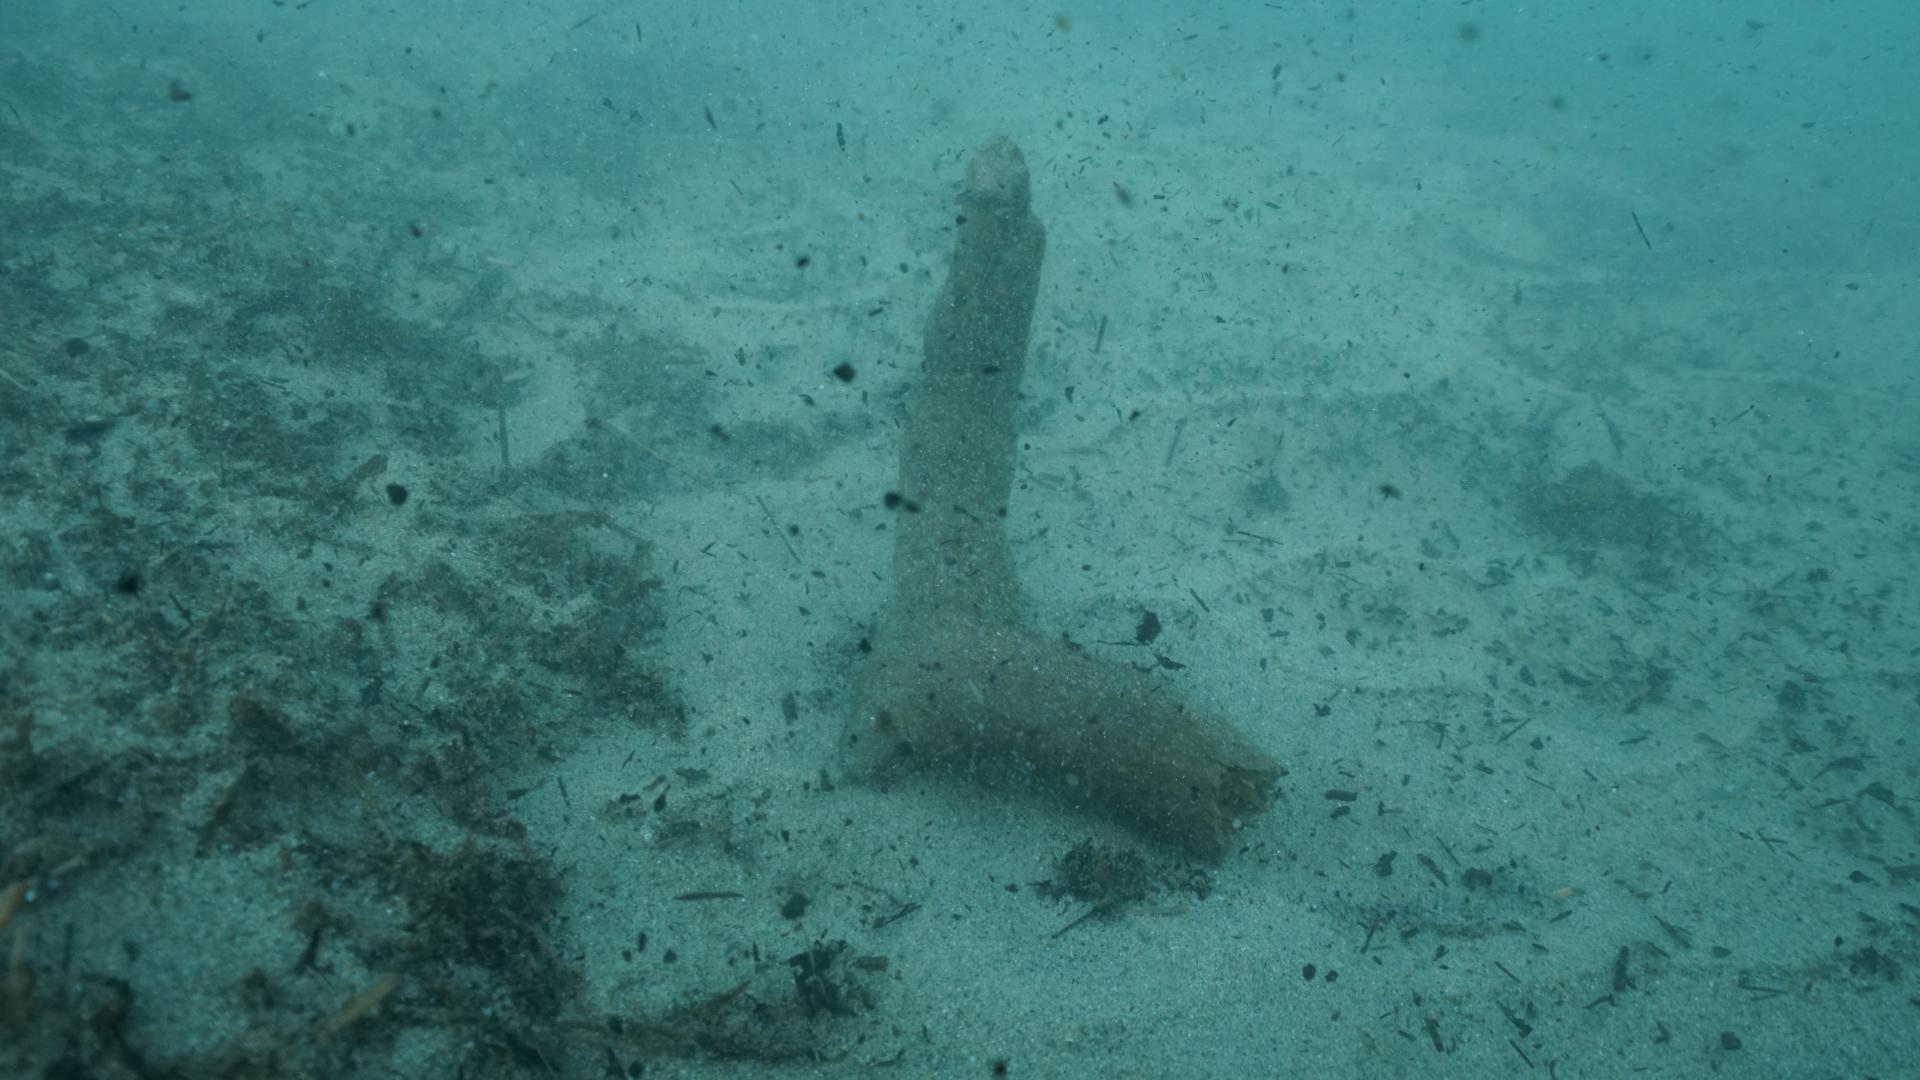wood: (870, 131, 1284, 865)
